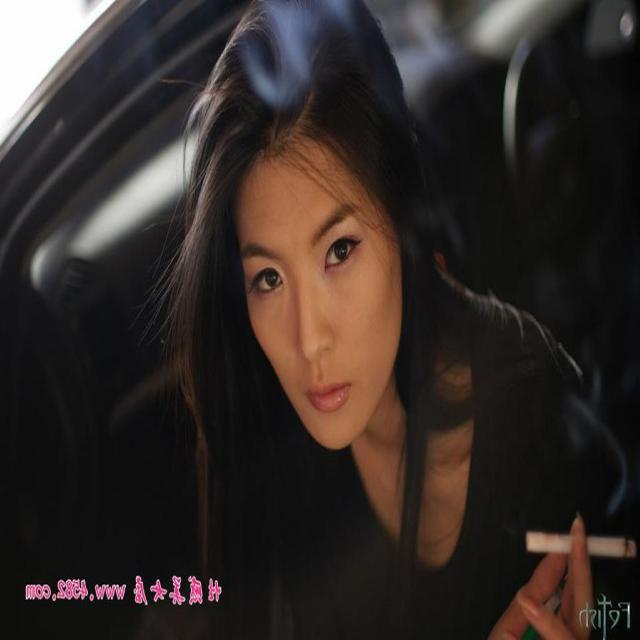smoking: (183, 3, 639, 598)
